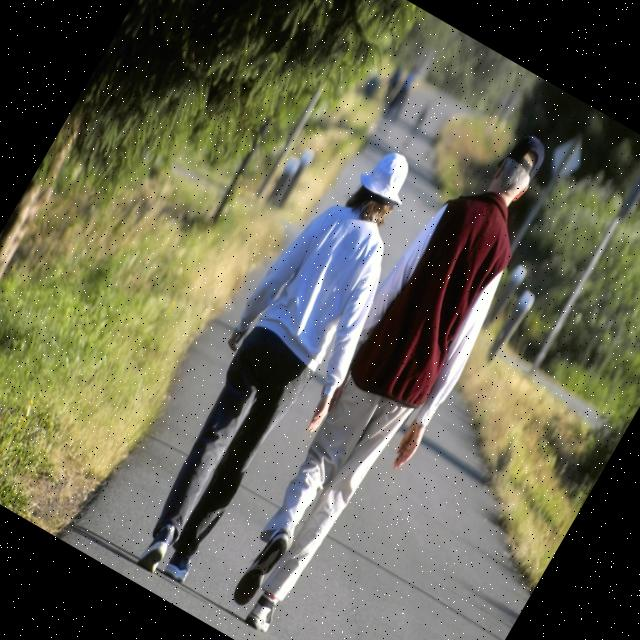Person: (194, 107, 581, 640), (104, 124, 458, 612)
